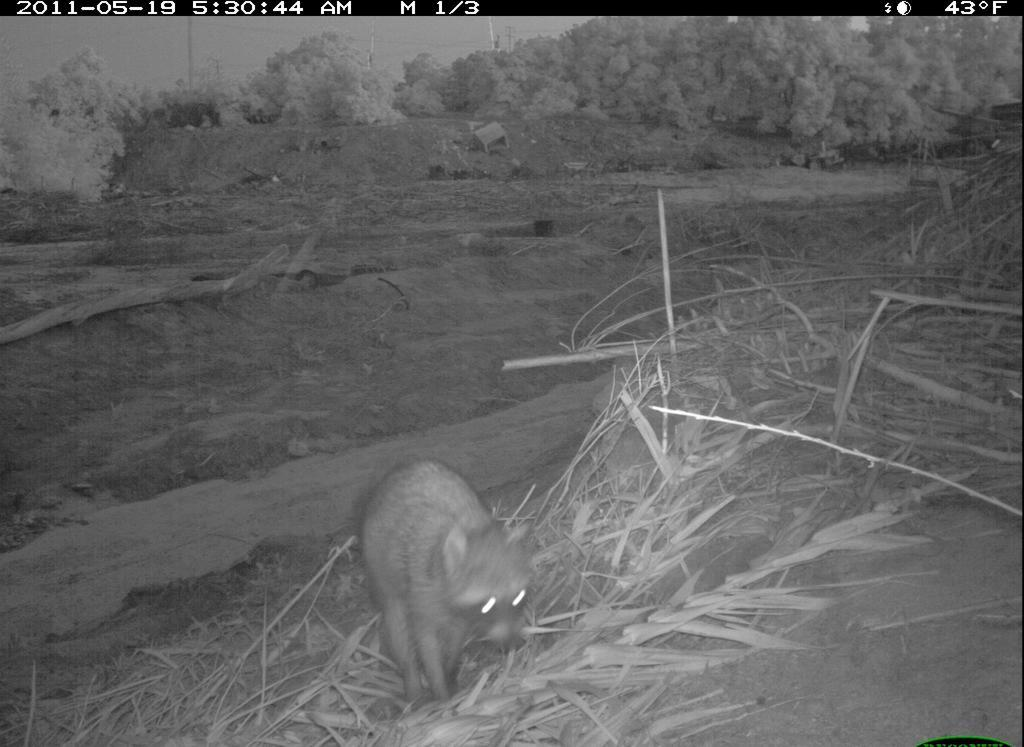rabbit: (350, 449, 548, 711)
